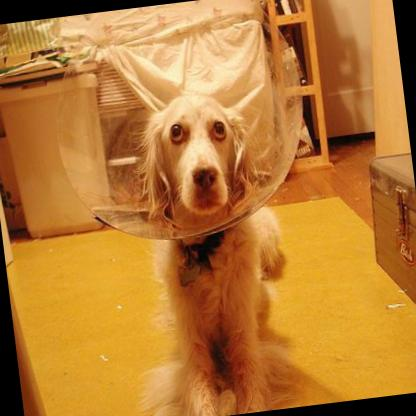English_setter: (97, 79, 306, 416)
